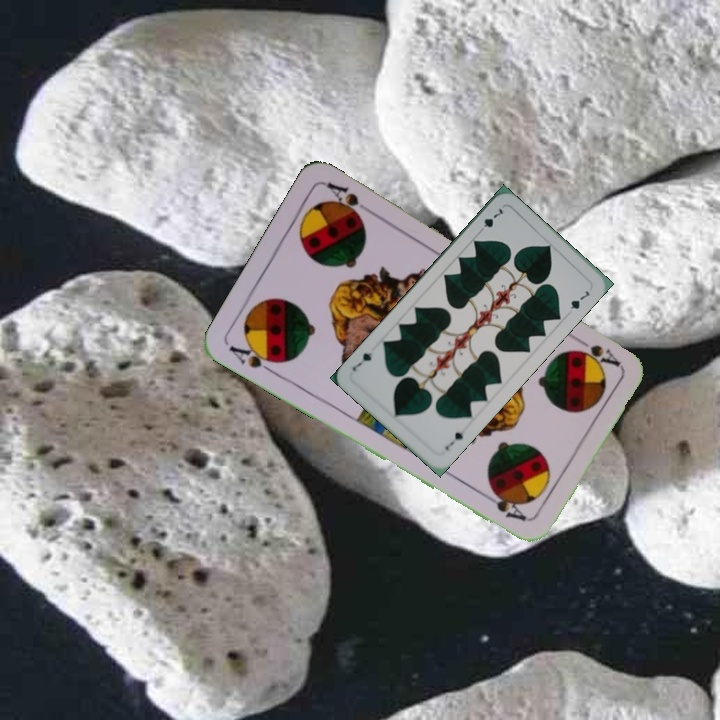G7: (474, 204, 507, 236), (441, 425, 469, 453)
SA: (225, 340, 284, 378), (568, 331, 622, 369)
